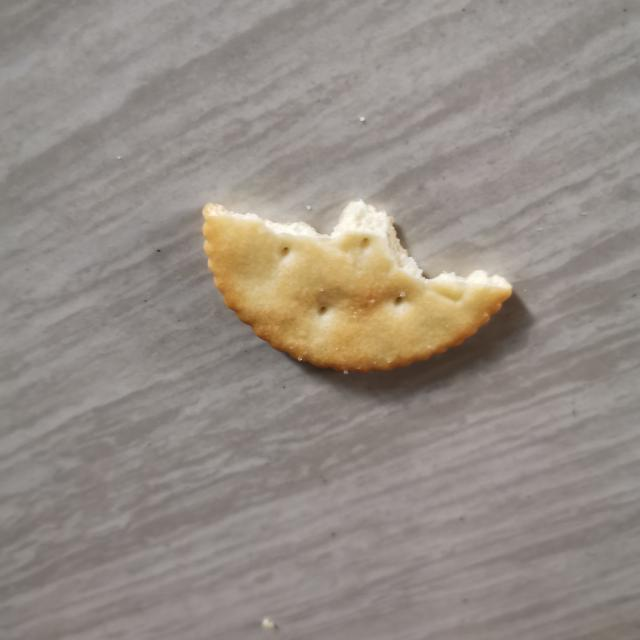Broken: (200, 196, 513, 373)
